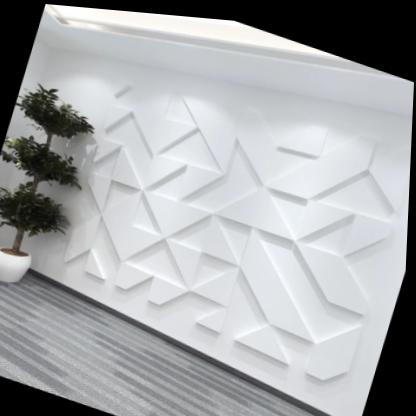Futech tiles: (92, 85, 407, 377)
